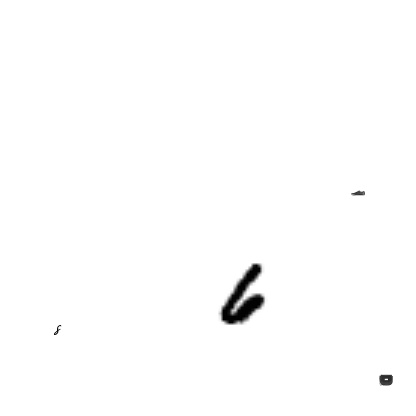6: (201, 255, 285, 339)
8: (50, 323, 64, 337)
Bag: (379, 373, 393, 387)
Sneaker: (351, 186, 365, 200)
